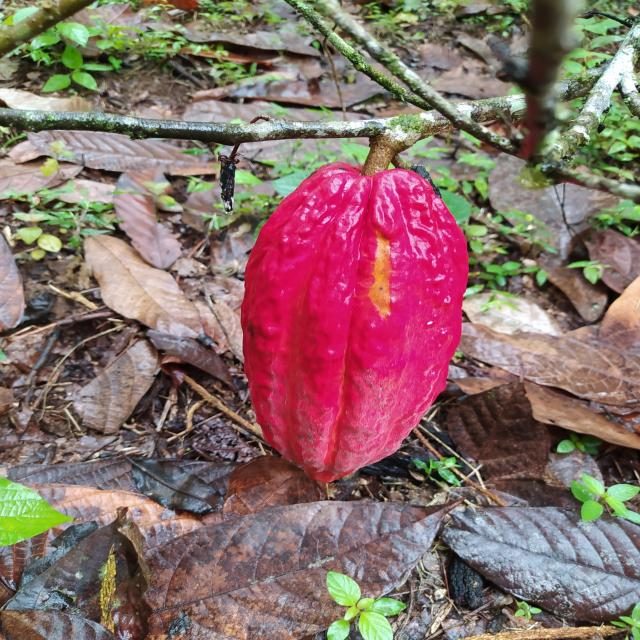Sana: (241, 163, 471, 485)
